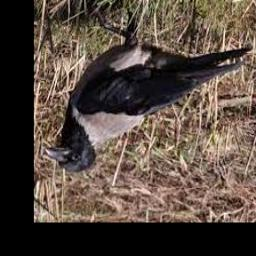Crow: (46, 4, 252, 174)
